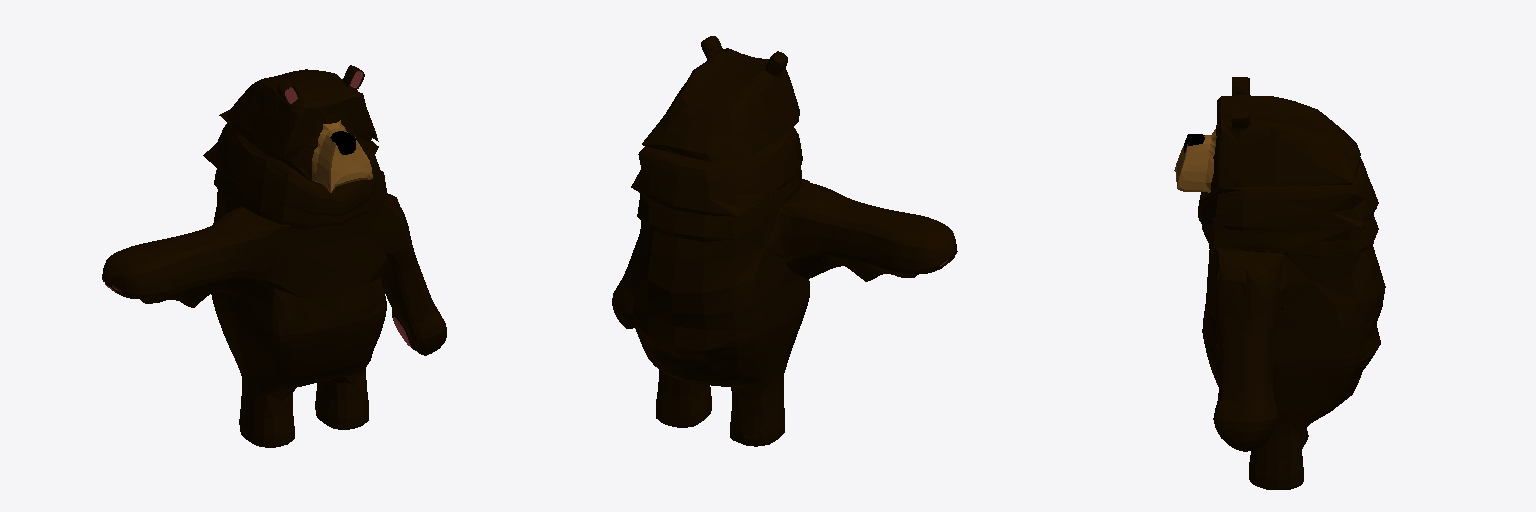
Rendered from Bearmodel.obj.
The picture shows the model from 3 angles: view 1: azimuth 30°, elevation 25°; view 2: azimuth 150°, elevation 25°; view 3: azimuth 270°, elevation 25°; orthographic projection.
Parts seen in each view (by area): view 1: pCube10 pCube1SmoothProxyGroup; view 2: pCube10 pCube1SmoothProxyGroup; view 3: pCube10 pCube1SmoothProxyGroup.
Boxes of the visible parts, x1=… form: pCube10 pCube1SmoothProxyGroup: x1=102, y1=65, x2=446, y2=447; pCube10 pCube1SmoothProxyGroup: x1=612, y1=36, x2=957, y2=446; pCube10 pCube1SmoothProxyGroup: x1=1174, y1=77, x2=1385, y2=489.
Size of the model in its own units: 6.78 by 7.12 by 3.7.